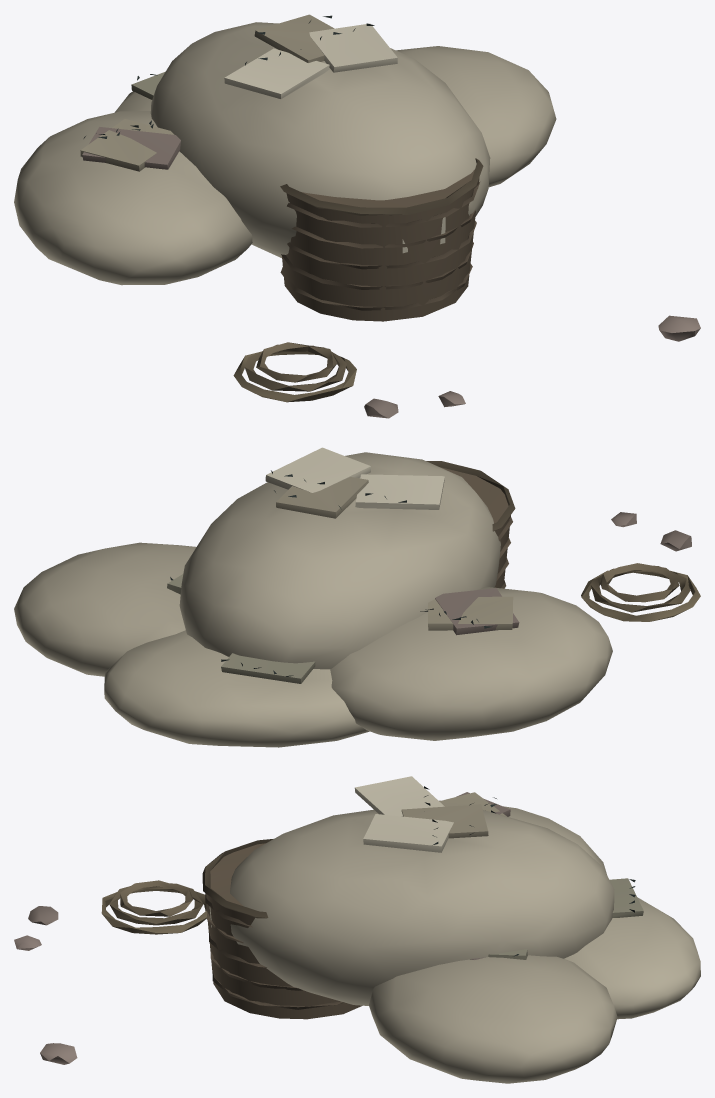
File: balloon_basket_wreck_a_lod2.glb
The picture shows the model from 3 angles, top to bottom: view 1: azimuth 30°, elevation 25°; view 2: azimuth 150°, elevation 25°; view 3: azimuth 270°, elevation 25°; orthographic projection. The views are drawn at different scales.
Visible parts, largest first — view 1: Surface.001; view 2: Surface.001; view 3: Surface.001.
Part boxes in pixels (x1=…): Surface.001: x1=14, y1=14, x2=700, y2=418; Surface.001: x1=14, y1=447, x2=700, y2=747; Surface.001: x1=14, y1=776, x2=700, y2=1083.
Bounding box in the file's own units: 6.46 × 2.2 × 7.75.
